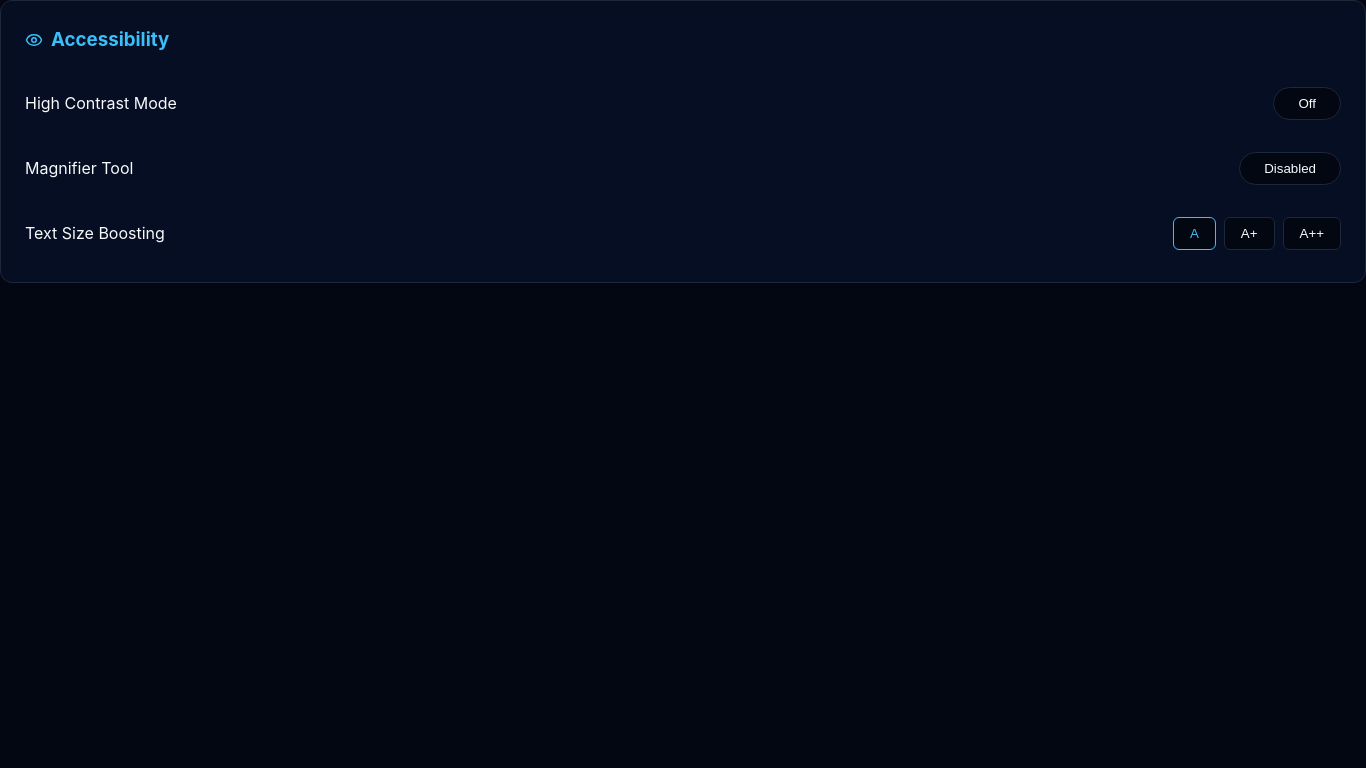
Test case: AccessibilitySettings › toggles high contrast mode
# Toggle on
Click the button with aria-label "high contrast mode". click: (1307, 103)
box: [1274,87,1341,120]
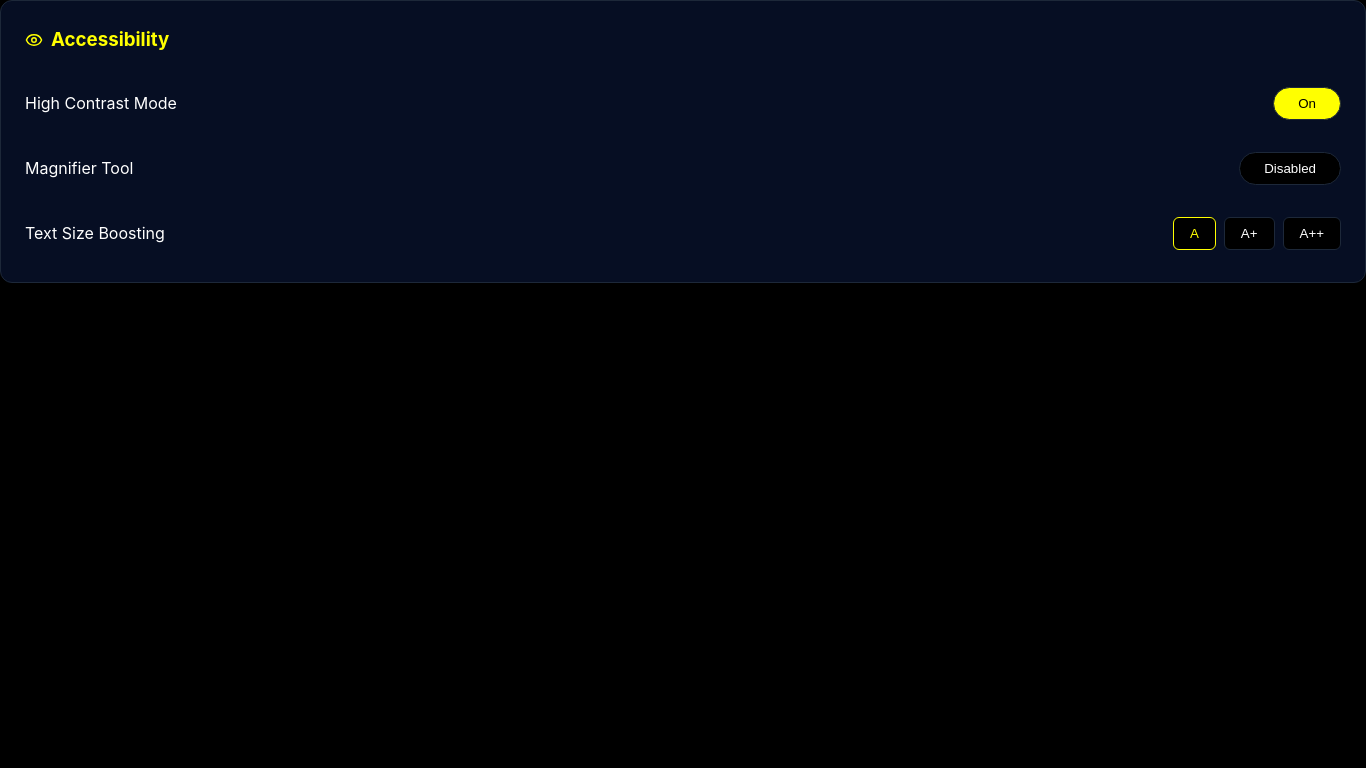
Result: the button with aria-label "high contrast mode" reads "On"
# Toggle off
Click the button with aria-label "high contrast mode". click: (1307, 103)
box: [1273,87,1341,120]
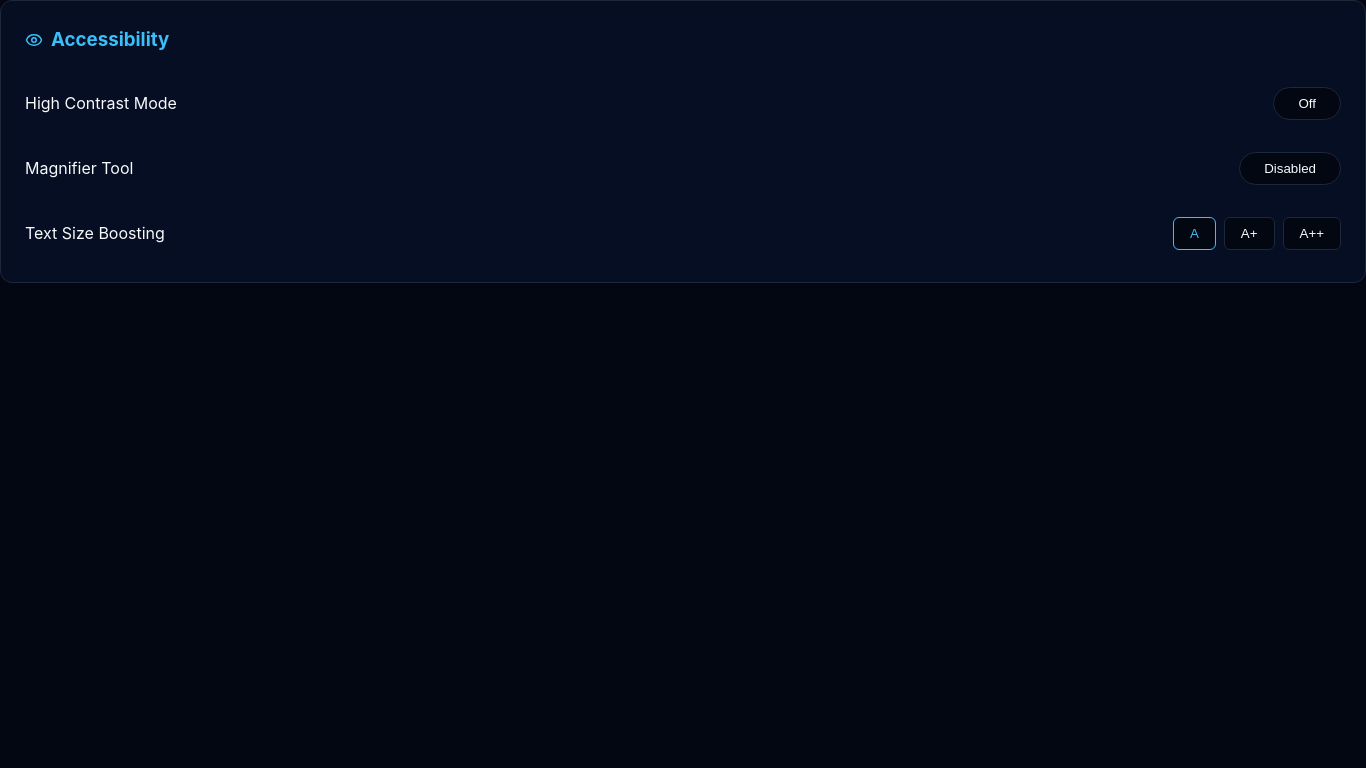
Result: the button with aria-label "high contrast mode" reads "Off" at [1274,87,1341,120]
